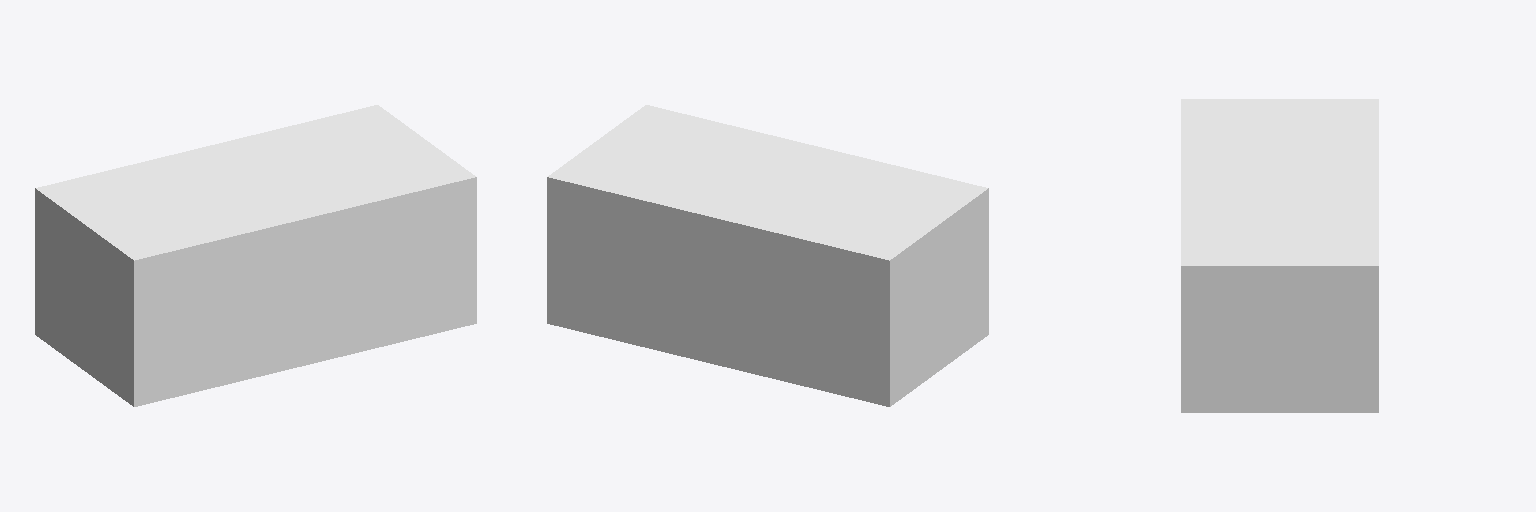
File: FFkosi.obj
The picture shows the model from 3 angles: view 1: azimuth 30°, elevation 25°; view 2: azimuth 150°, elevation 25°; view 3: azimuth 270°, elevation 25°; orthographic projection.
Parts seen in each view (by area): view 1: object 1; view 2: object 1; view 3: object 1.
Part boxes in pixels (x1,y1,x2,y2): object 1: (35,105,476,406); object 1: (547,105,988,406); object 1: (1181,99,1378,412).
Bounding box in the file's own units: 2.2 × 0.9 × 1.1.